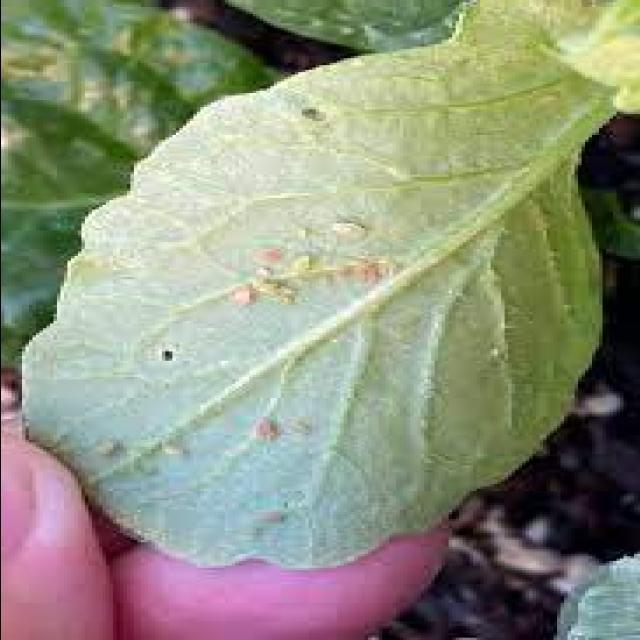aphid: (213, 284, 259, 314), (76, 438, 122, 466), (318, 218, 367, 244), (241, 509, 287, 534), (242, 416, 280, 446), (147, 440, 189, 466), (242, 244, 284, 270), (280, 226, 315, 247), (342, 265, 370, 291), (357, 261, 381, 291), (290, 254, 314, 278), (270, 296, 298, 314), (270, 286, 298, 302)
